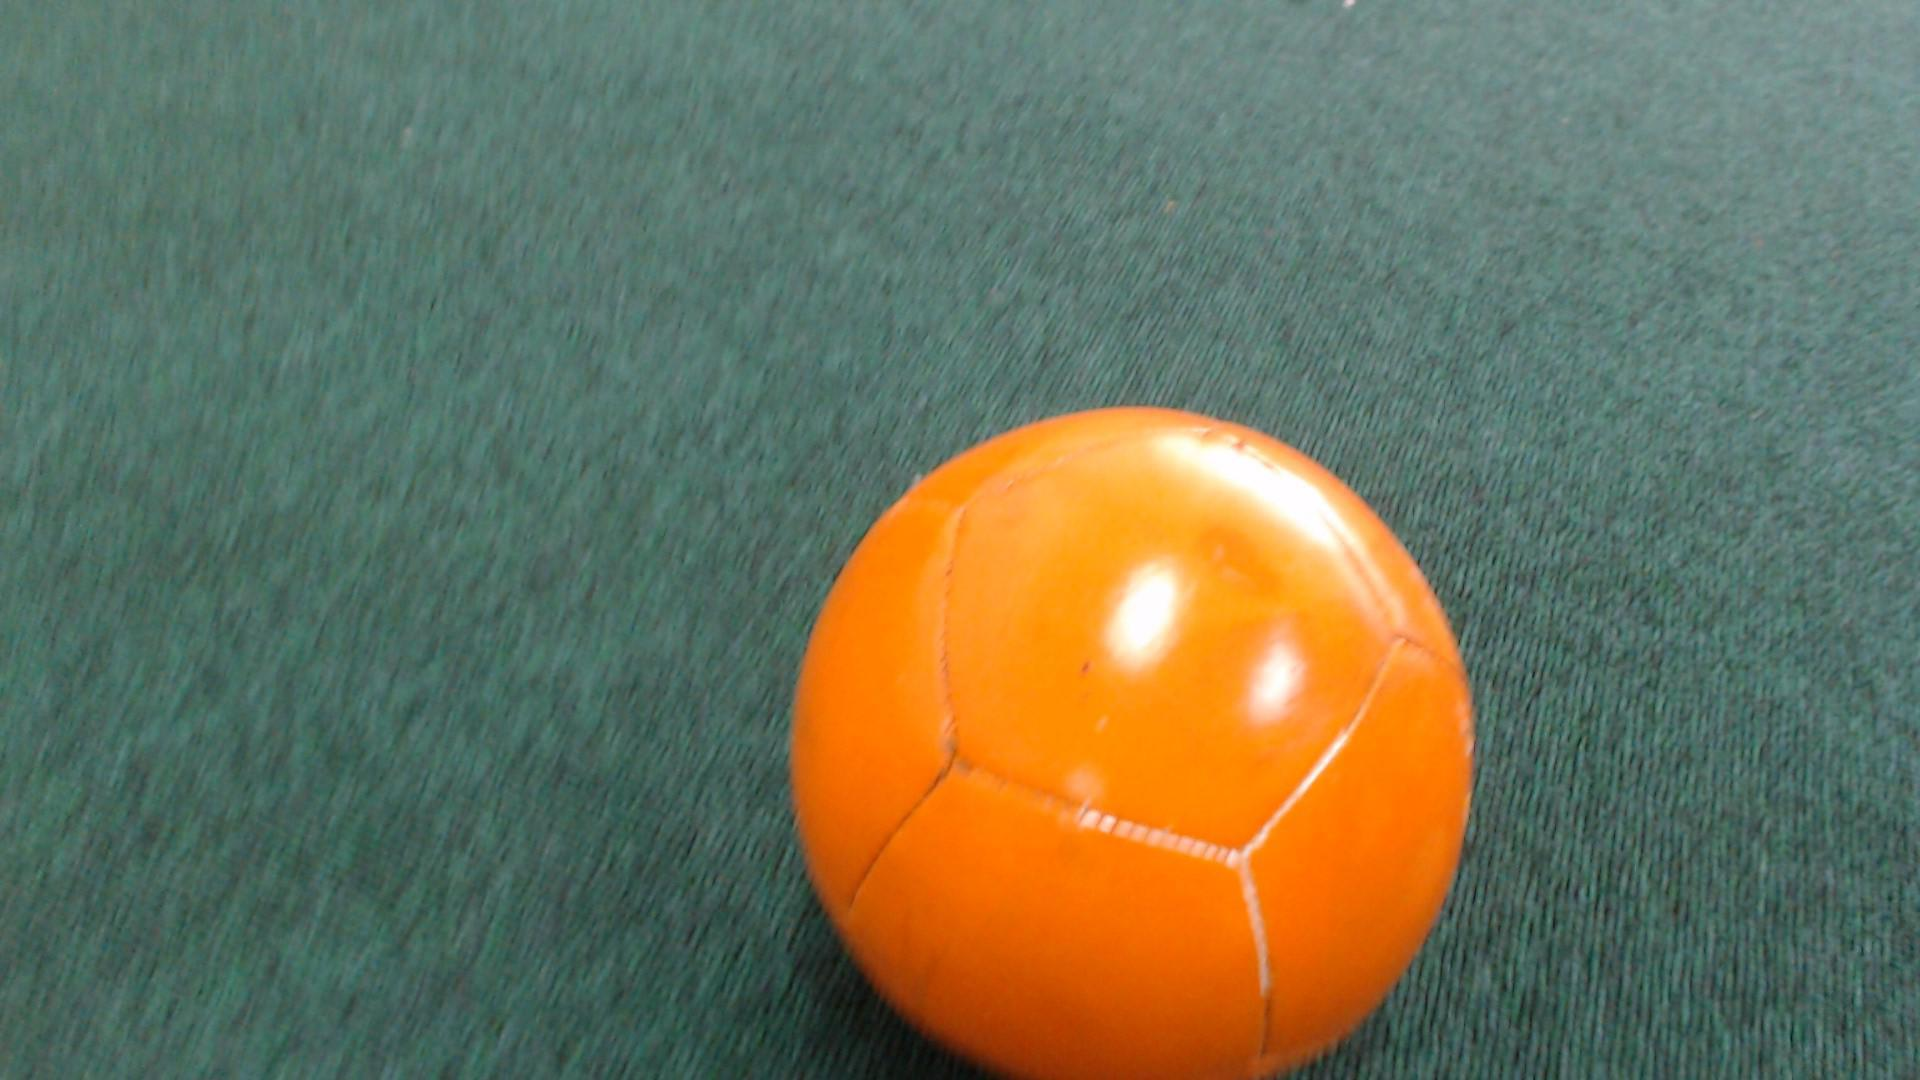bola: (744, 375, 1514, 1079)
